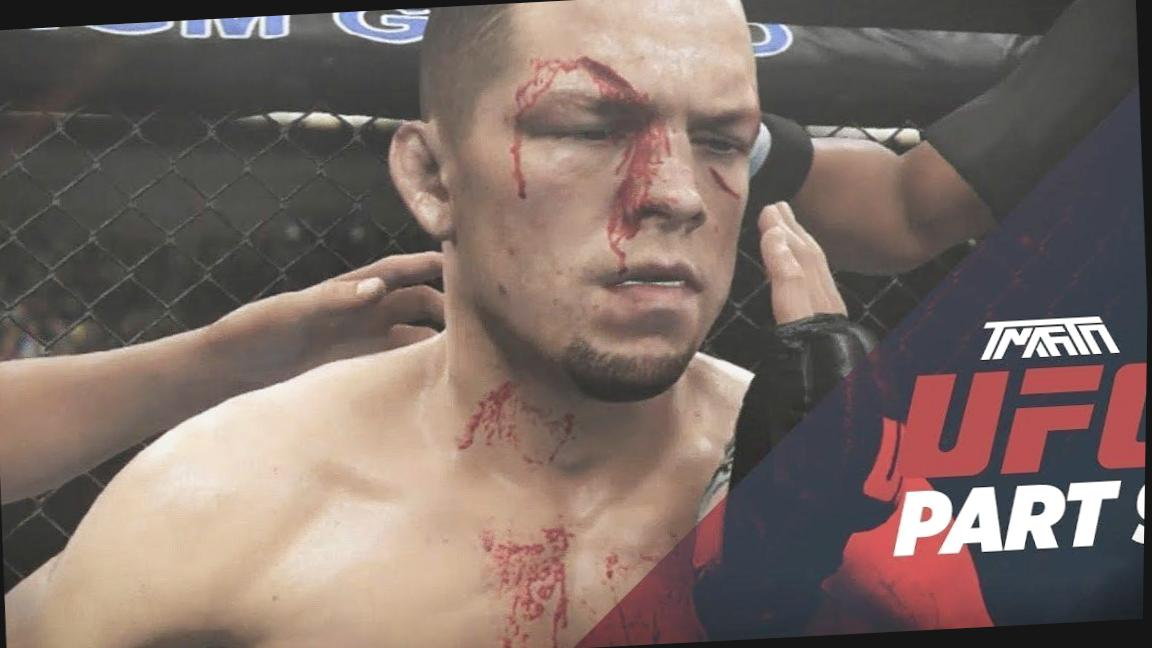Fire: (510, 53, 672, 269), (481, 526, 576, 648), (458, 378, 577, 465), (604, 552, 665, 599), (708, 152, 746, 210)
